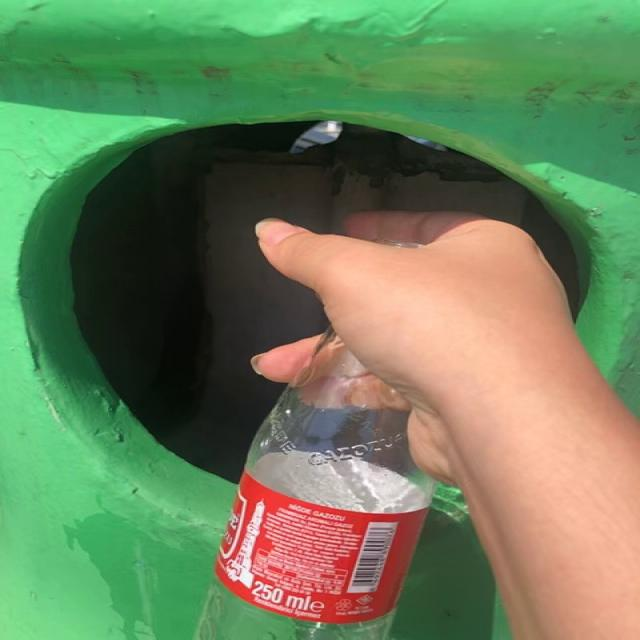glass: (195, 334, 433, 640)
